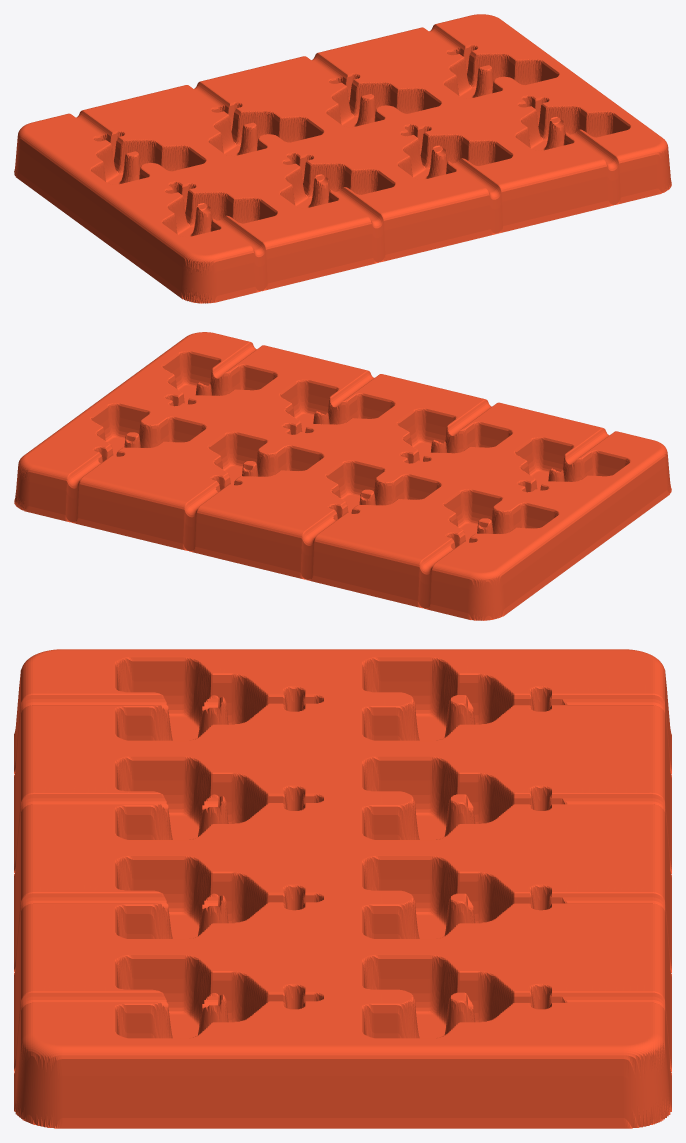
File: mold.glb
3 views of the same model, one above another, from view 1: azimuth 30°, elevation 25°; view 2: azimuth 150°, elevation 25°; view 3: azimuth 270°, elevation 25° (orthographic). The views are drawn at different scales.
Parts seen in each view (by area): view 1: geometry_0; view 2: geometry_0; view 3: geometry_0.
Boxes of the visible parts, x1=… form: geometry_0: x1=14, y1=14, x2=671, y2=303; geometry_0: x1=14, y1=332, x2=671, y2=620; geometry_0: x1=14, y1=649, x2=671, y2=1128.
Bounding box in the file's own units: 0.1818 × 0.0155 × 0.1229.
